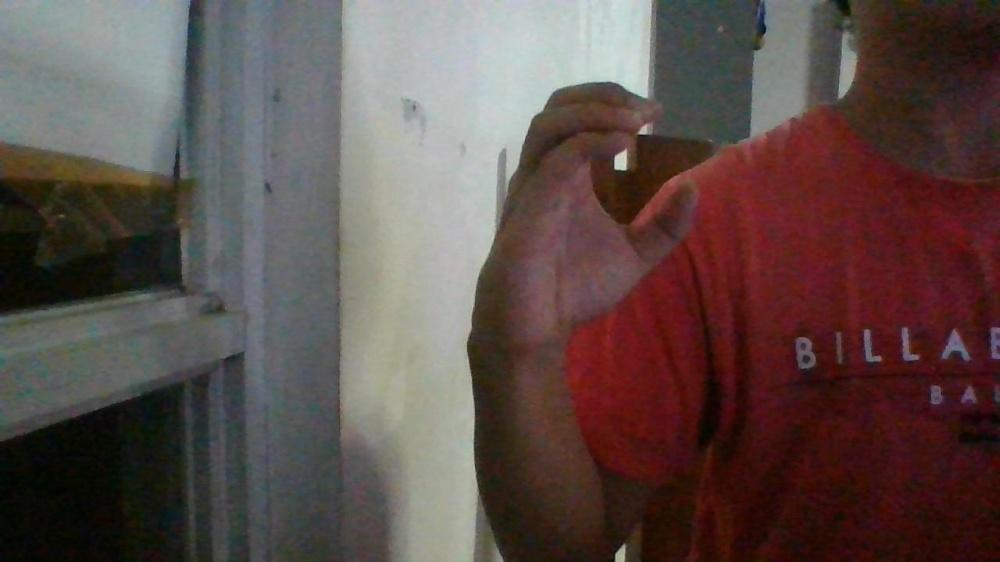c: (466, 78, 699, 349)
